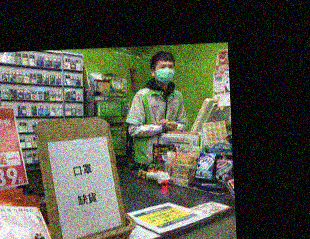with_mask: (155, 62, 175, 85)
